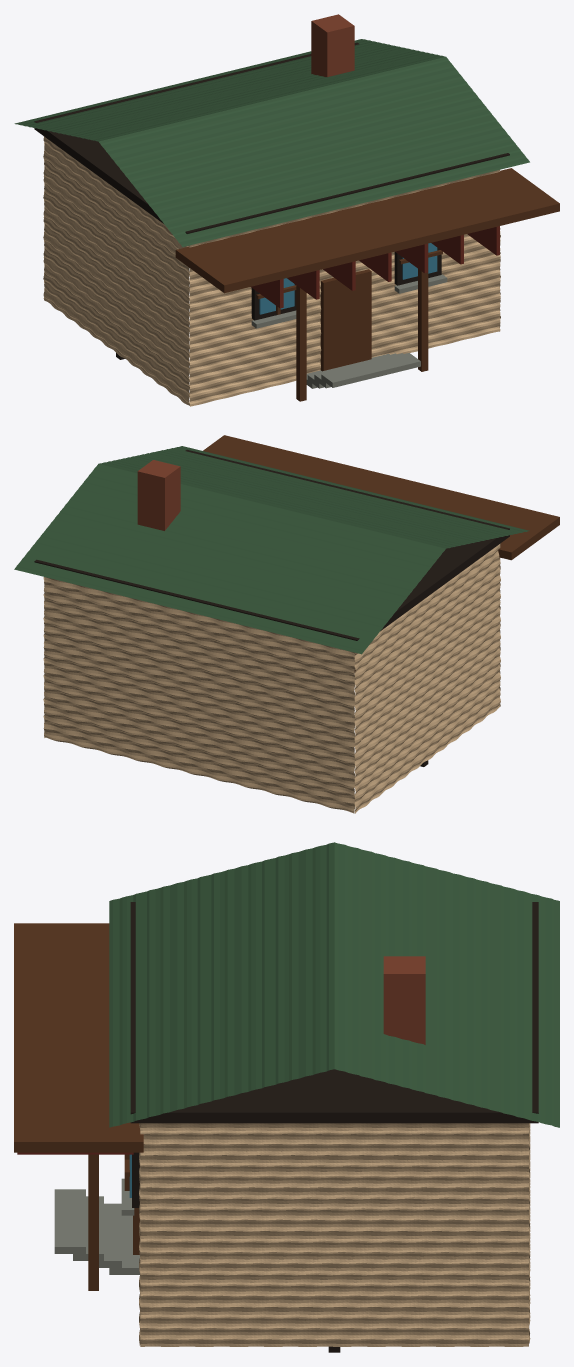
The model's file is harbor_fish_market.obj.
The picture shows the model from 3 angles, top to bottom: view 1: azimuth 30°, elevation 25°; view 2: azimuth 150°, elevation 25°; view 3: azimuth 270°, elevation 25°; orthographic projection. The views are drawn at different scales.
Visible parts, largest first — view 1: harbor_fish_market; view 2: harbor_fish_market; view 3: harbor_fish_market.
Boxes of the visible parts, x1=… form: harbor_fish_market: x1=14, y1=14, x2=559, y2=406; harbor_fish_market: x1=14, y1=435, x2=559, y2=813; harbor_fish_market: x1=14, y1=842, x2=559, y2=1352.
Size of the model in its own units: 8.29 by 5.86 by 8.43.
